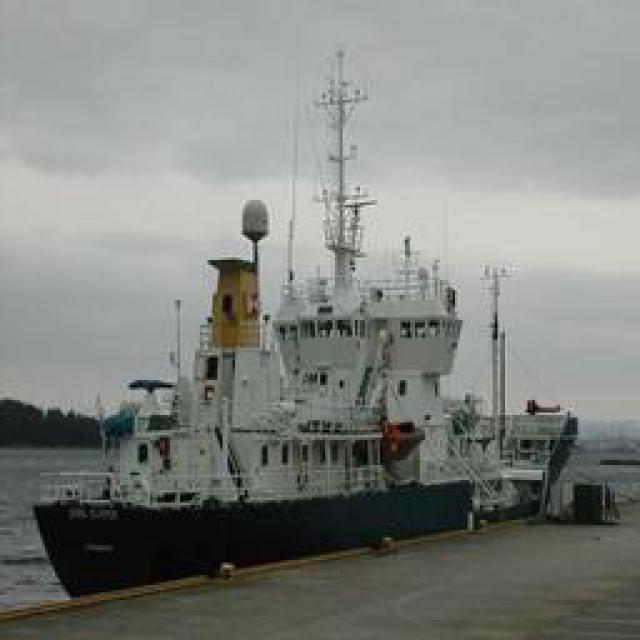Ship: (39, 46, 479, 581)
